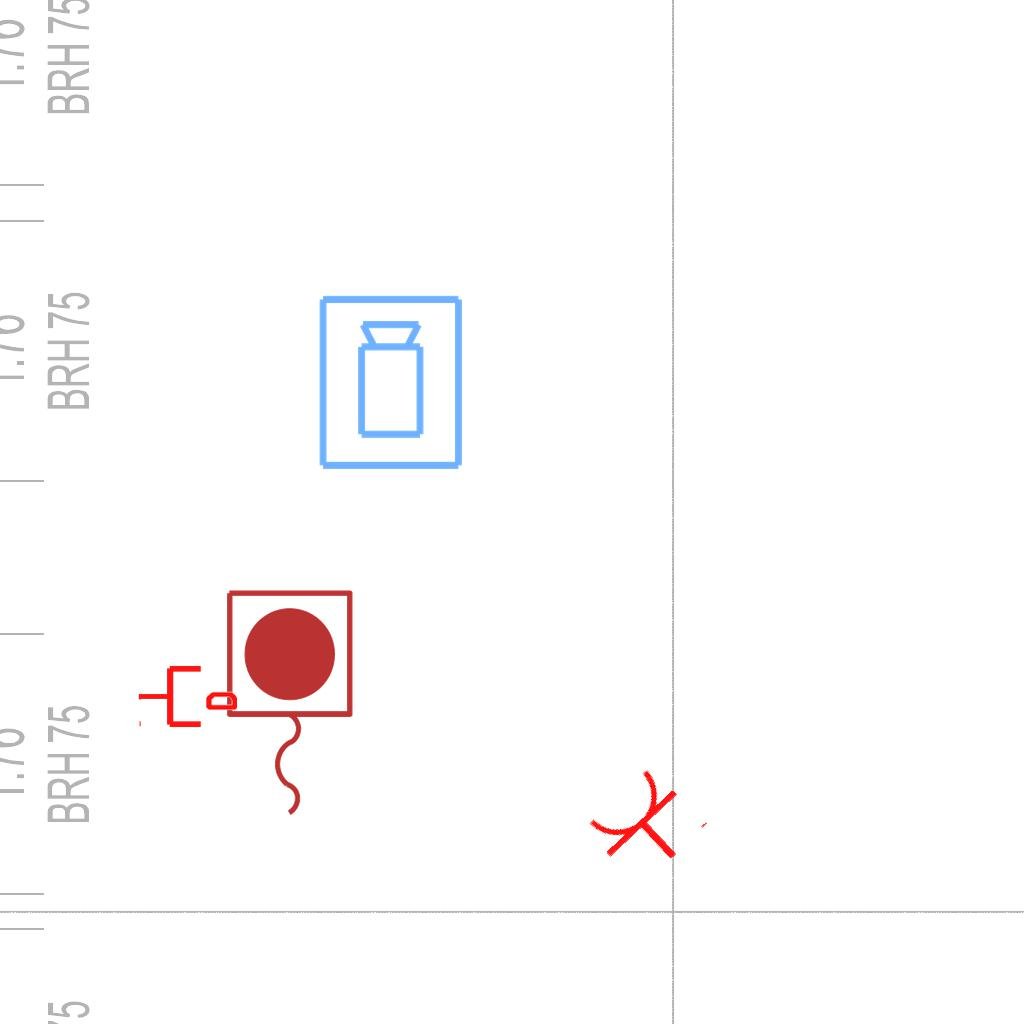Datenanschluss_einfach: (137, 662, 237, 731)
KFO_Kamera_mit_Festobjektiv: (315, 292, 469, 474)
Schukosteckdose_einfach: (580, 759, 713, 891)
Zugtaster: (216, 582, 360, 826)
